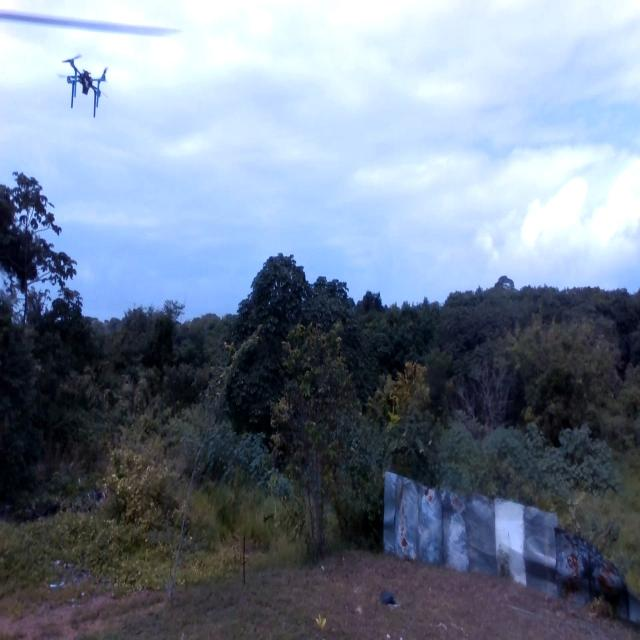-uav-: (54, 46, 136, 123)
